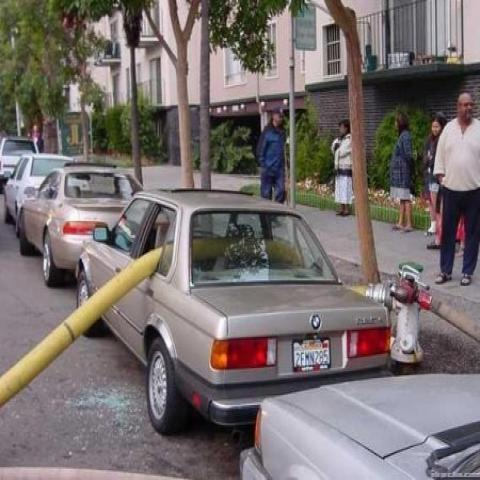car: (74, 185, 394, 433), (238, 373, 479, 478), (13, 166, 147, 290), (2, 154, 74, 237), (0, 136, 42, 191)
